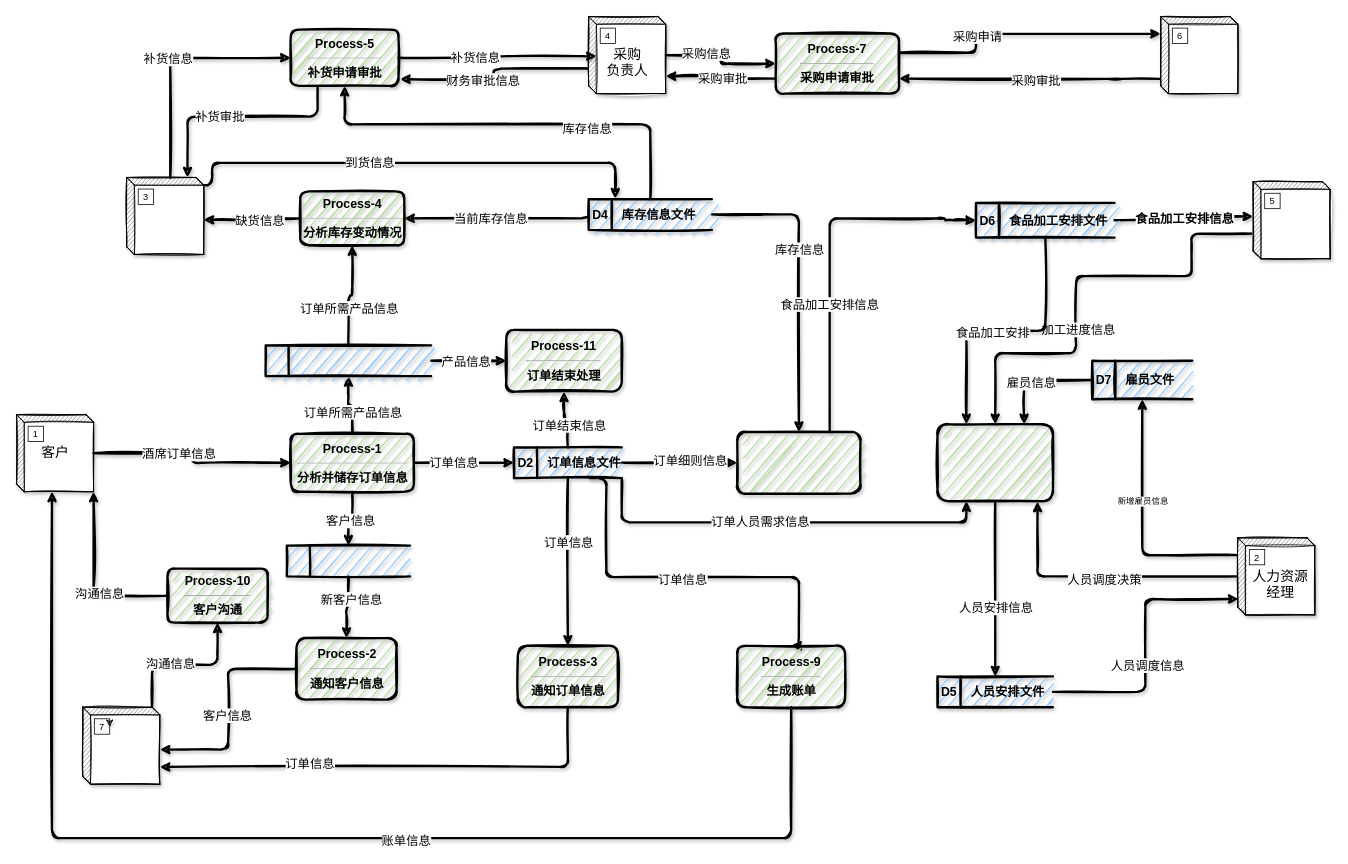
Some shapes in this 1348 by 864 pixel diagram are drawn without their labels. Here are the shapes that lost their labels. From the top down, the centre of each, then its label:
point (1199, 56): 财务
point (165, 217): 库存 负责人
point (1292, 221): 食物加工 部门
point (349, 361): D3 未完订单所需产品文件
point (799, 463): Process-6 生成食品加工安排
point (995, 463): Process-8 人员调度安排
point (348, 562): D1 客户信息文件
point (121, 746): 销售与 客户部门
